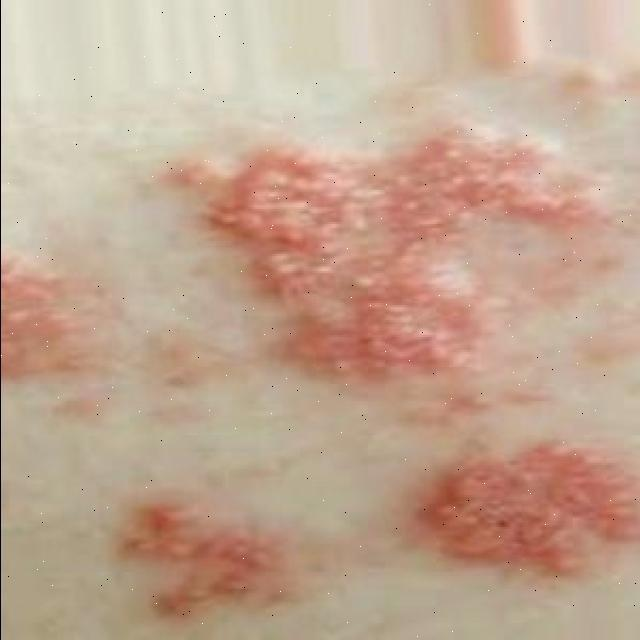Shingles: (161, 118, 600, 380), (407, 436, 640, 582), (117, 495, 284, 619), (0, 259, 107, 394)
